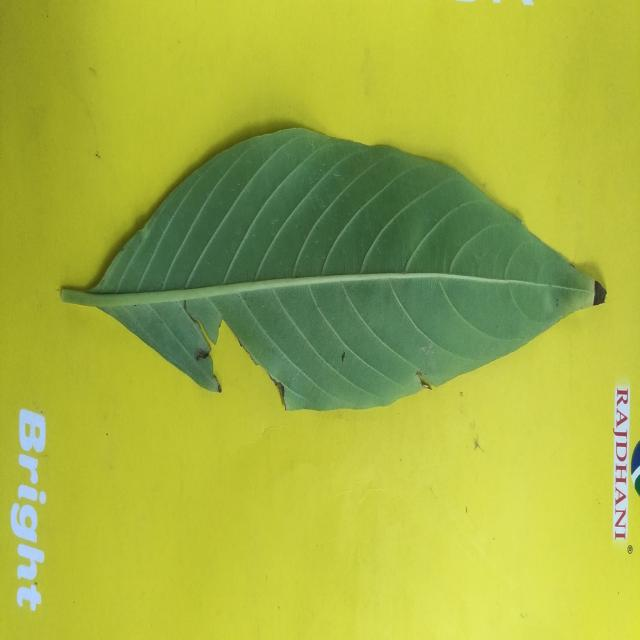leaf spot: (61, 129, 606, 411)
